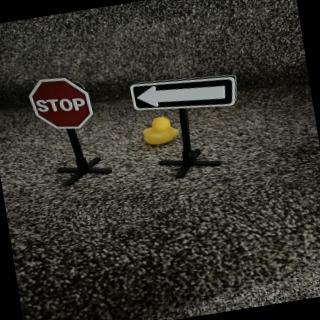duck_regular: (142, 115, 182, 150)
sign_oneway_left: (130, 70, 242, 124)
sign_stop: (28, 73, 98, 138)
